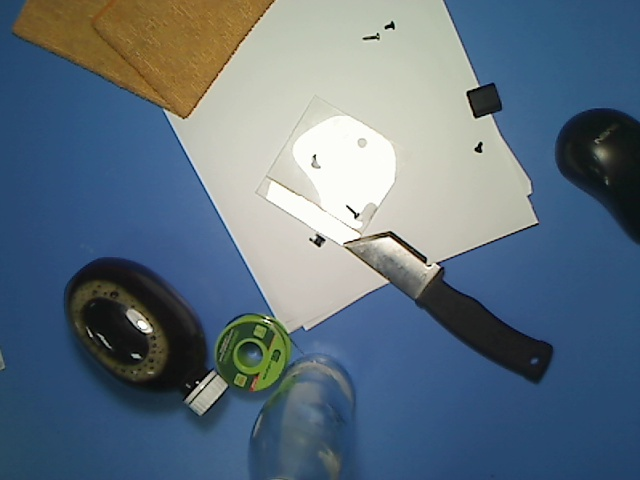plast_bottle: (60, 253, 234, 420)
